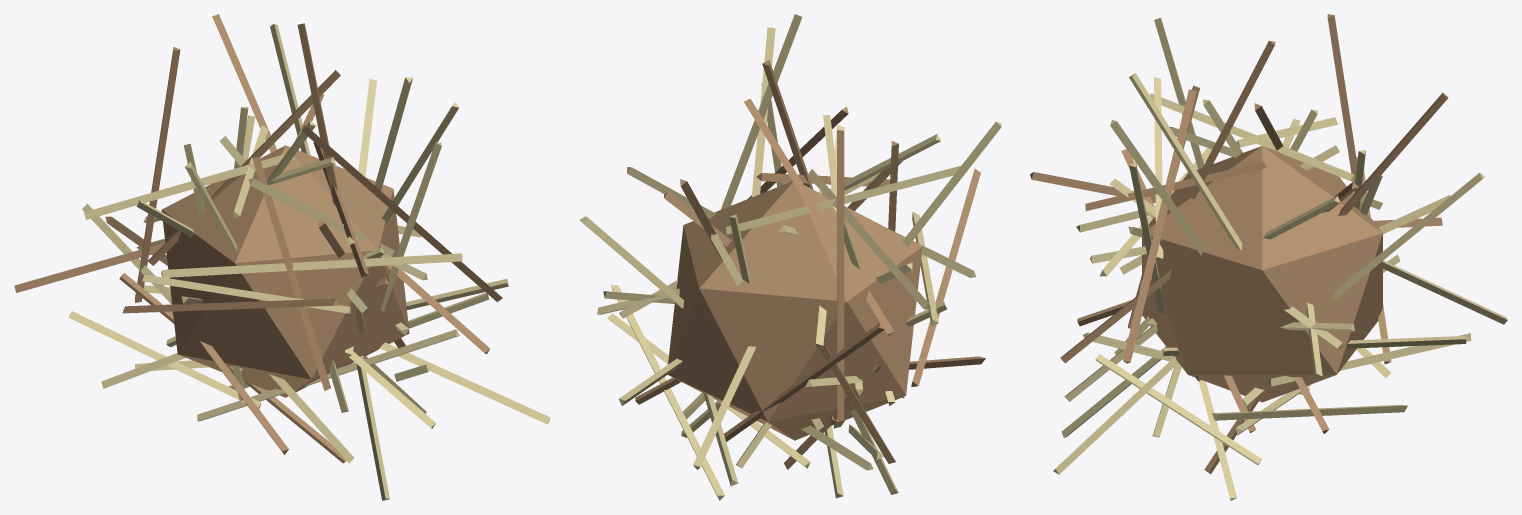
Rendered from SM_Tumbleweed.glb.
3 renders of one model, left to right at view 1: azimuth 30°, elevation 25°; view 2: azimuth 150°, elevation 25°; view 3: azimuth 270°, elevation 25°, orthographic. The views are drawn at different scales.
Parts seen in each view (by area): view 1: SM_Tumbleweed; view 2: SM_Tumbleweed; view 3: SM_Tumbleweed.
Part boxes in pixels (left/top/right/bottom): SM_Tumbleweed: left=14, top=14, right=550, bottom=500; SM_Tumbleweed: left=579, top=14, right=1001, bottom=500; SM_Tumbleweed: left=1030, top=14, right=1507, bottom=500.
Size of the model in its own units: 0.9545 by 1 by 1.01.
